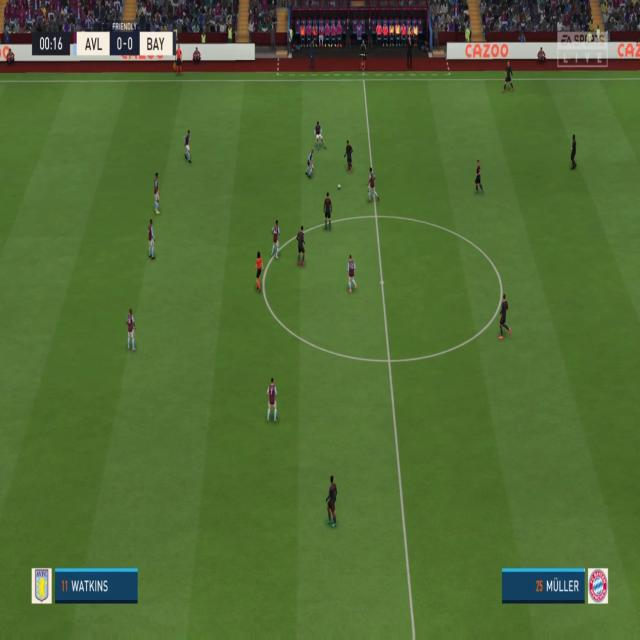Ball: (338, 183, 341, 190)
Referee: (255, 250, 267, 290)
Team-A: (495, 295, 511, 341), (324, 474, 337, 526), (295, 226, 308, 268), (501, 64, 515, 93), (473, 161, 485, 194), (324, 193, 334, 231), (570, 136, 580, 172), (344, 142, 354, 175)
Team-H: (267, 378, 279, 423), (270, 218, 283, 258), (366, 170, 380, 206), (126, 307, 137, 351), (346, 254, 358, 293), (312, 121, 326, 151), (148, 219, 158, 260), (184, 130, 194, 164), (154, 172, 161, 216), (306, 147, 314, 181)
